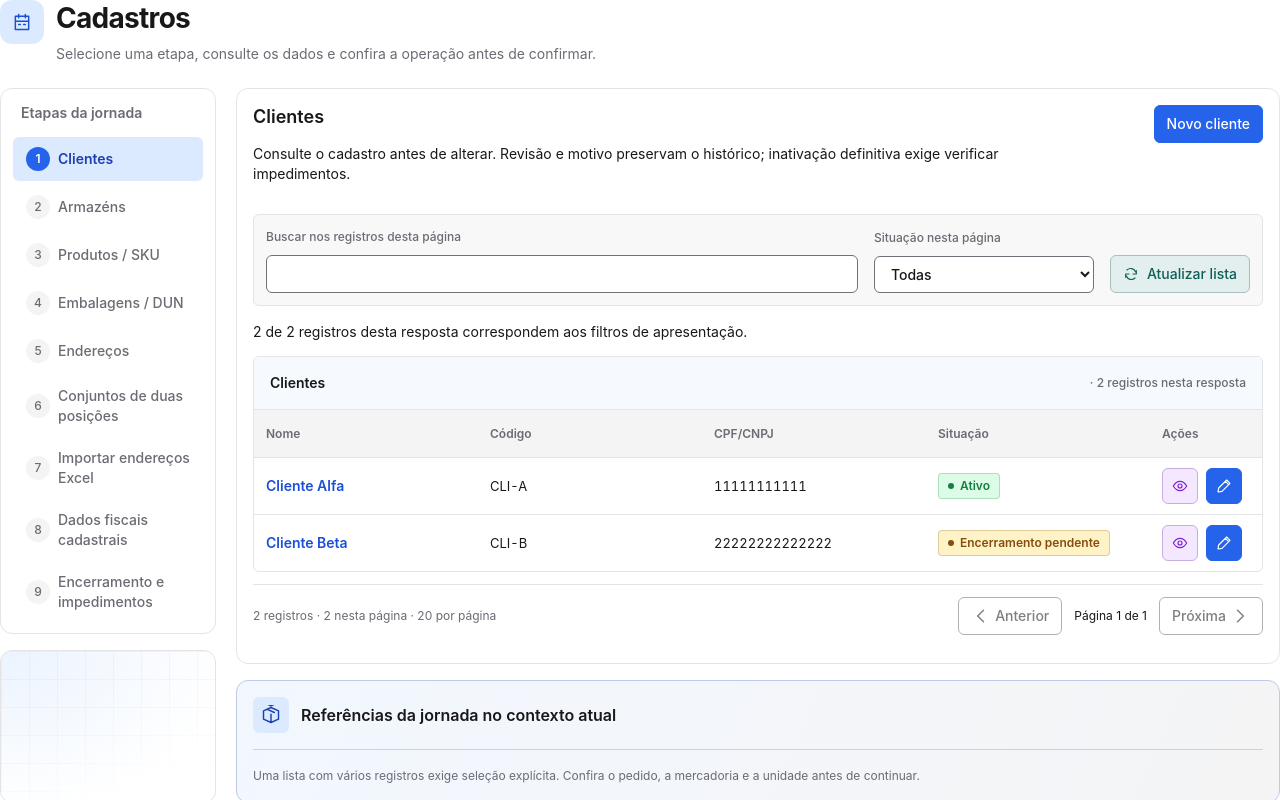
Test case: REG01 Clientes por registro › trata conflito de salvamento sem sucesso e conserva os campos
Click the button named "Editar" in the row of "CLI-A" at (1224, 486), box x1=1206 y1=468 x2=1242 y2=504
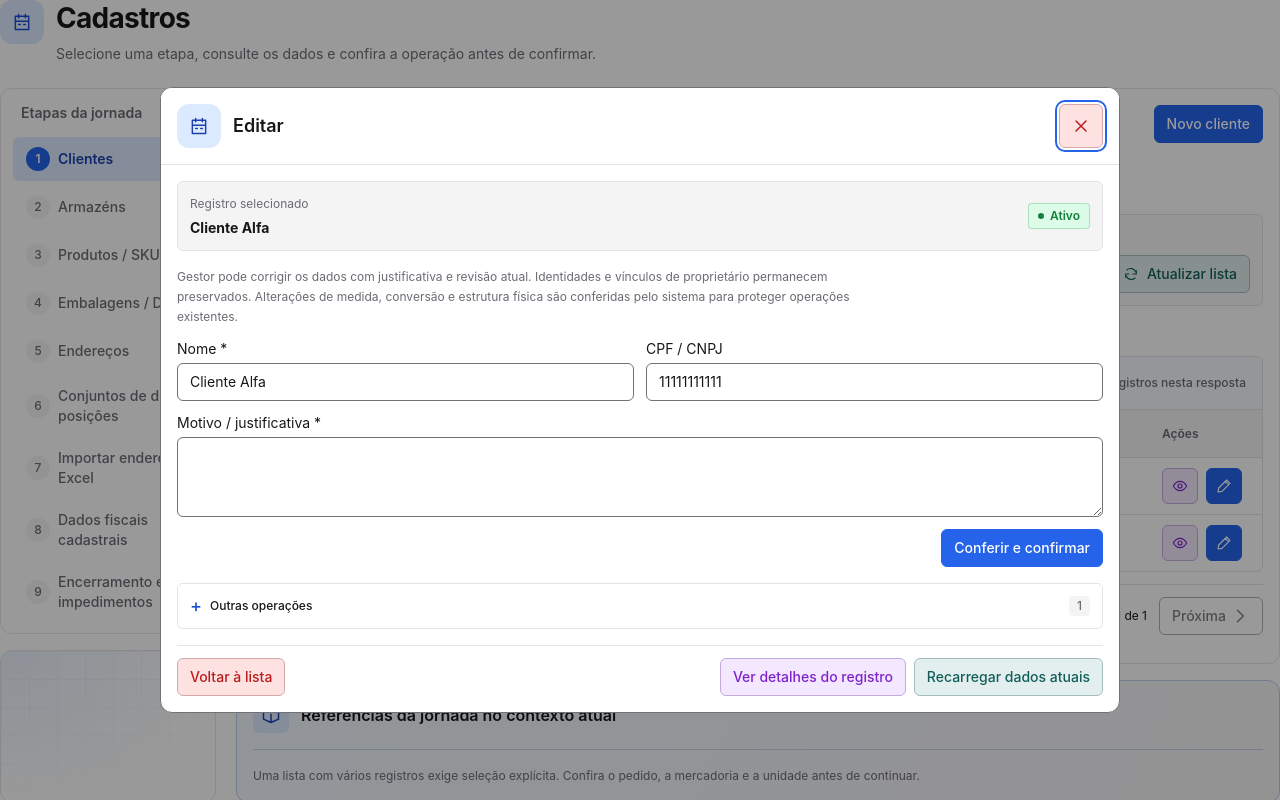
Result: the field labelled "Nome *" is shown
Replace the text in the field labelled "Nome *" with "Tentativa preservada" at (406, 382), box x1=177 y1=363 x2=634 y2=401
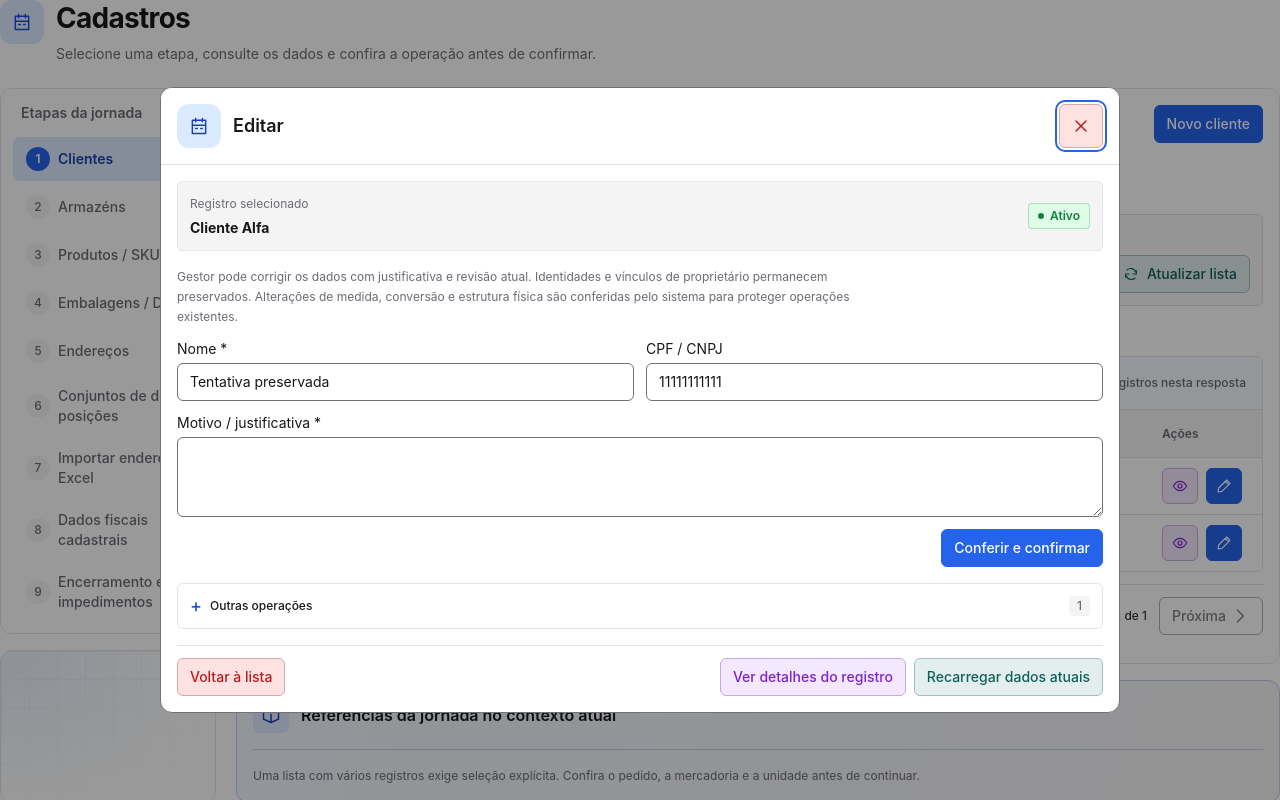
Type "Correção solicitada" into the text box labelled "Motivo / justificativa *" at (640, 477), box x1=177 y1=437 x2=1103 y2=517
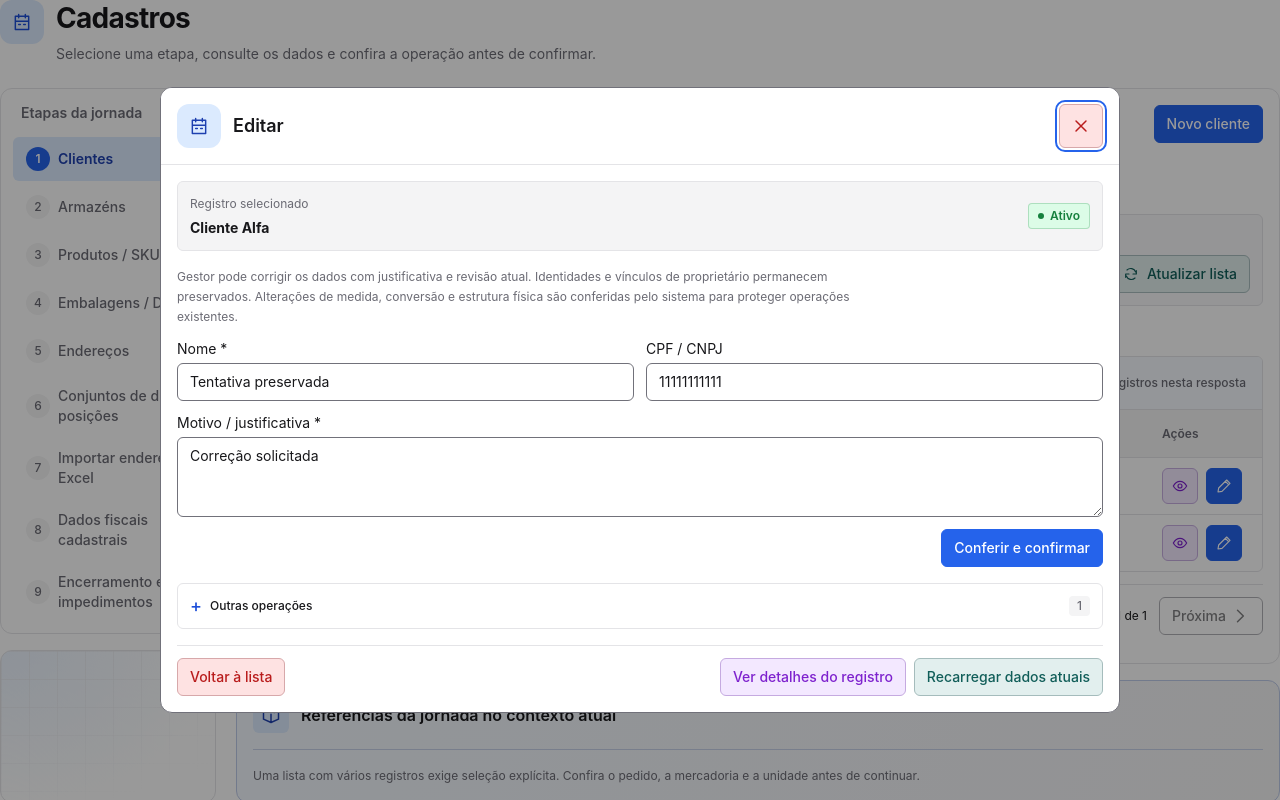
Click the button "Conferir e confirmar" at (1022, 548), box x1=941 y1=529 x2=1103 y2=567
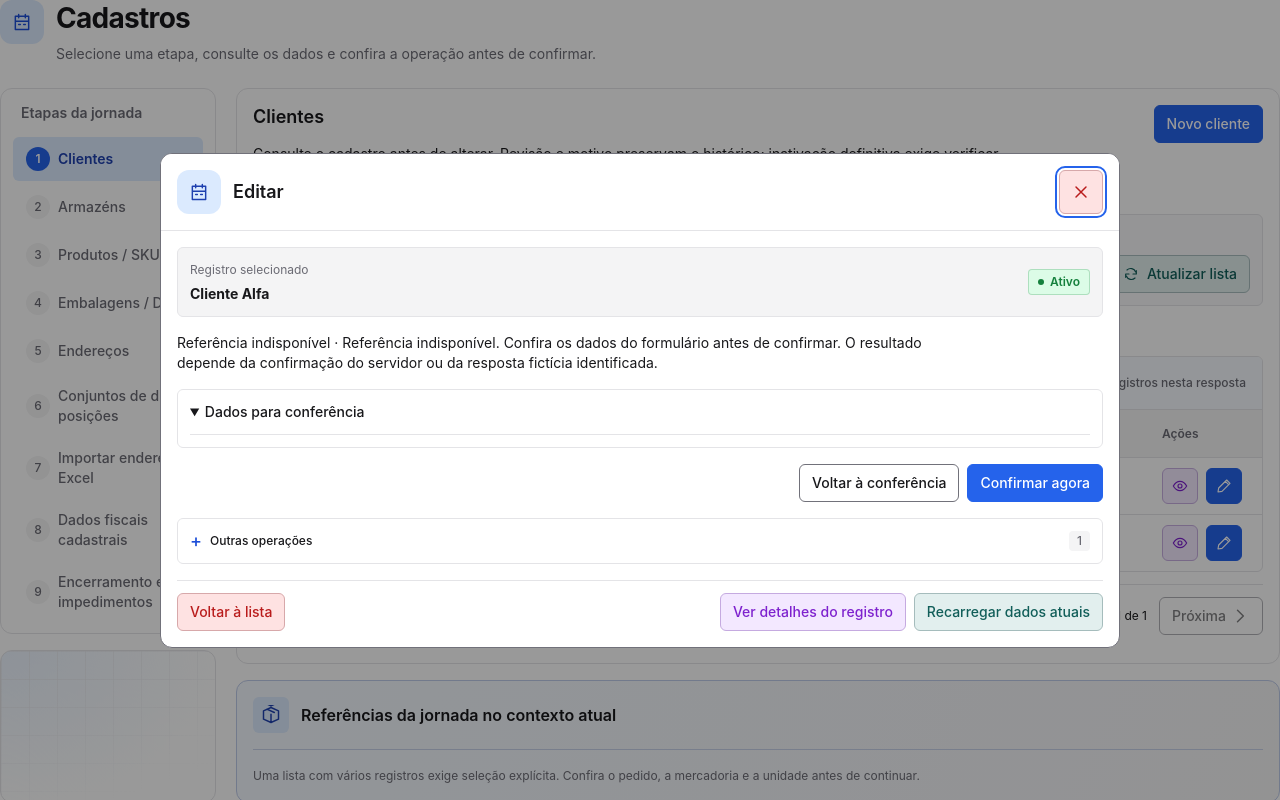
Click the button "Confirmar agora" at (1035, 482), box x1=968 y1=464 x2=1103 y2=502
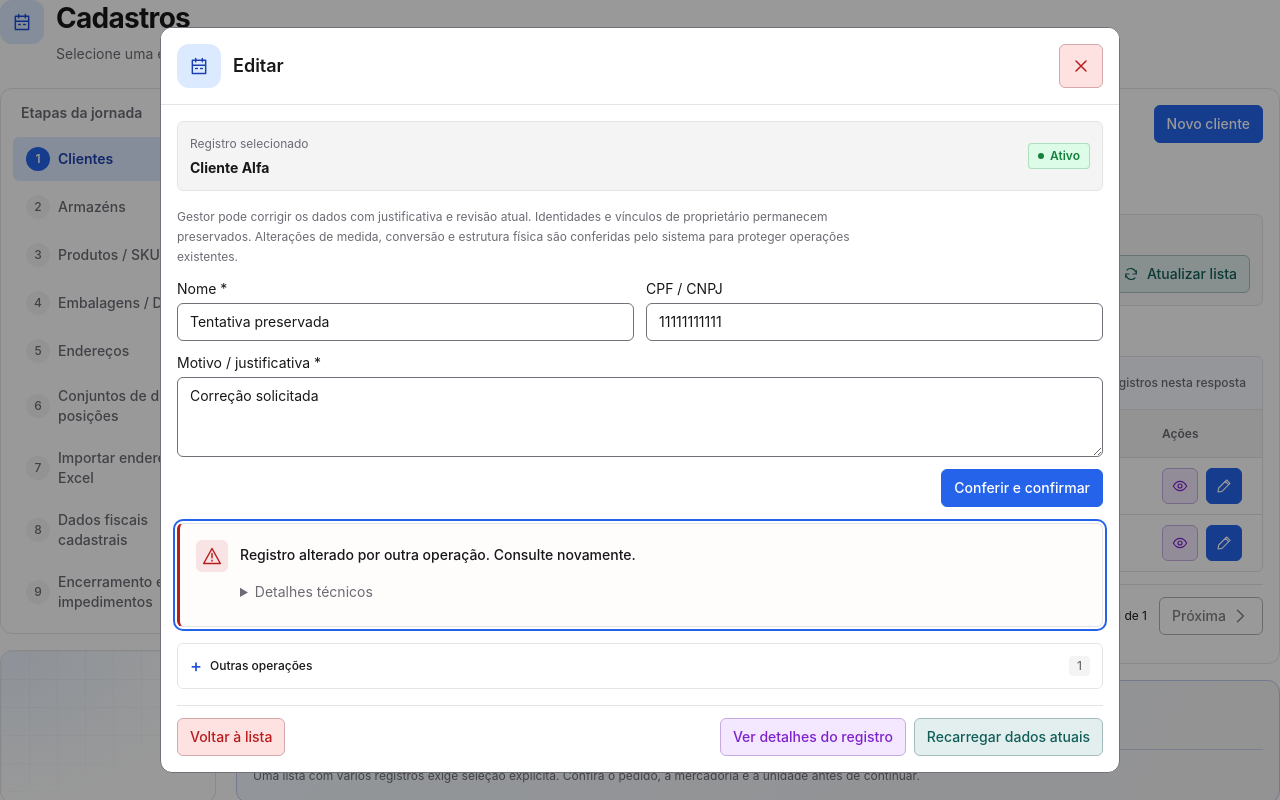
Result: the text "Registro alterado por outra operação. Consulte novamente." is shown at x1=240 y1=546 x2=636 y2=563
Result: the field labelled "Nome *" holds "Tentativa preservada" at x1=177 y1=303 x2=634 y2=341
